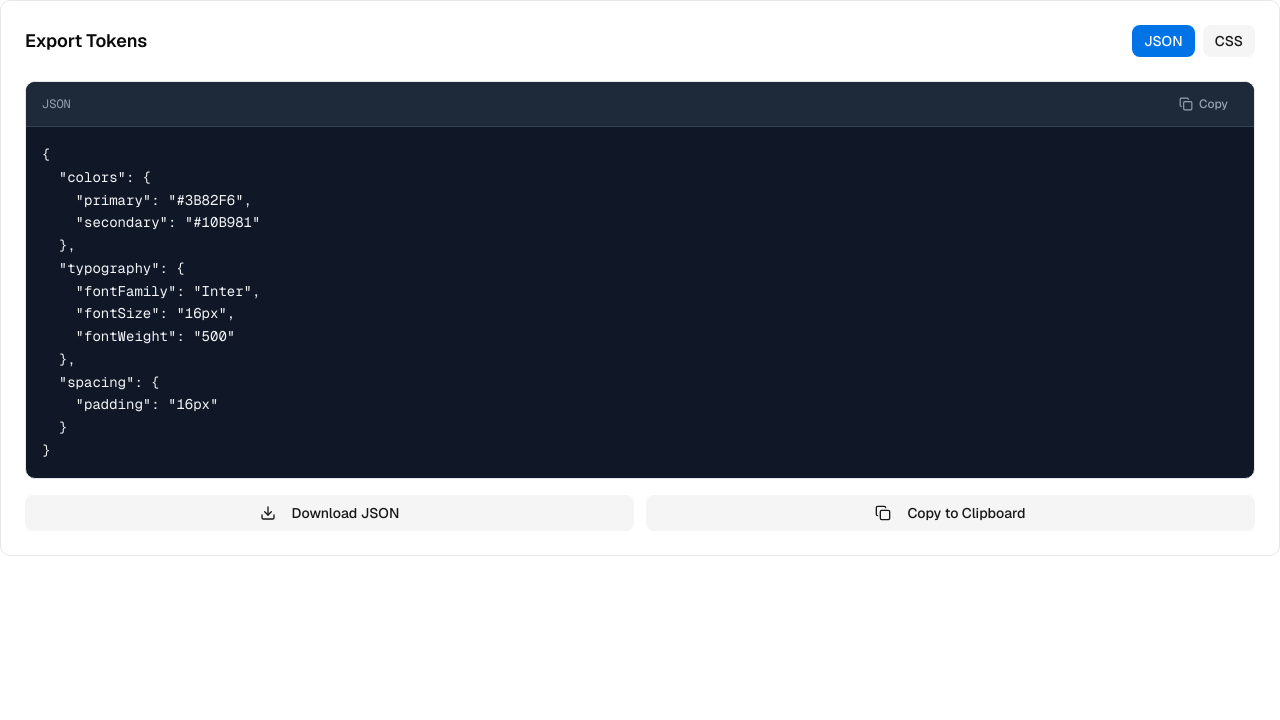
it: TokenExport › Format Toggle › switches to CSS format
Click the button "CSS". click: click(1229, 41)
box: [1203,25,1255,57]
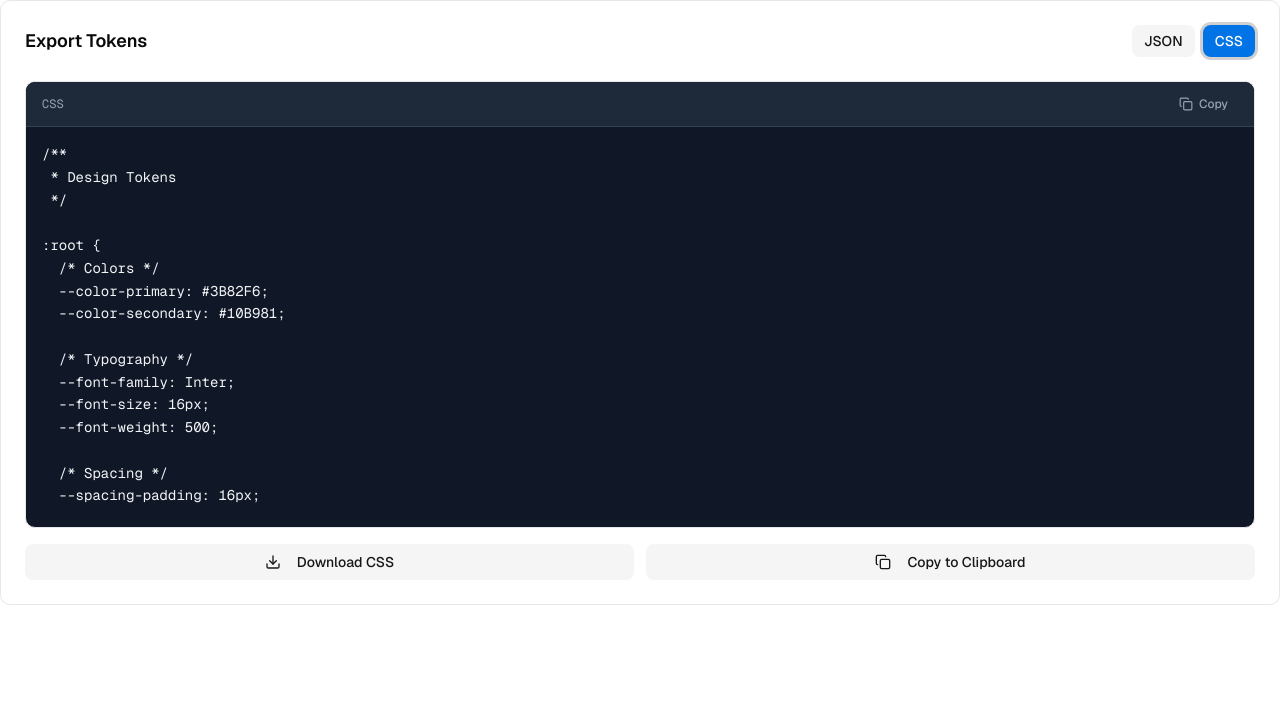
Expected: the button "Download CSS" is shown, [25,544,634,580]
